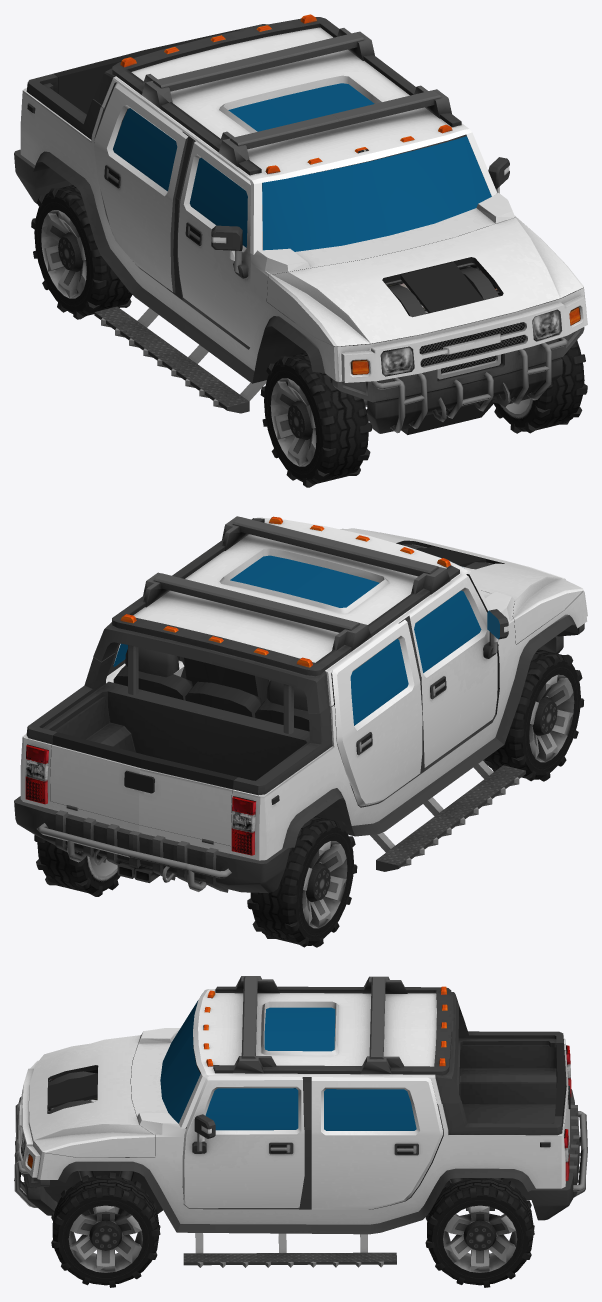
The model's file is Car13.fbx.
3 views of the same model, one above another, from view 1: azimuth 30°, elevation 25°; view 2: azimuth 150°, elevation 25°; view 3: azimuth 270°, elevation 25° (orthographic). The views are drawn at different scales.
Parts seen in each view (by area): view 1: Body, Roof, Hood, Front_Glass_, BumperF, Offroad_1_Door_RL, Door, Tire_3, Tire_2, Offroad_1_RightBumper_3, roofBar, roofBar_1 (+11 smaller); view 2: Body, Roof, Trunk, BumperB, Offroad_1_Door_RL, Door, Offroad_Dashboard, Tire_2, Hood, Tire_3, Offroad_1_RightBumper_3, roofBar (+10 smaller); view 3: Body, Roof, Offroad_1_Door_RL_1, Hood, Door__1_, Tire_1, Tire, Metal, Metal_1, Side_Glass__1, Offroad_1_Window_RL_Glass__1, Offroad_1_LeftBumper_3 (+9 smaller).
Boxes of the visible parts, x1,y1,x2,y2 form: Body: (20, 24, 587, 434); Roof: (93, 17, 497, 254); Hood: (267, 216, 583, 346); Front_Glass_: (262, 136, 491, 251); BumperF: (332, 327, 584, 433); Offroad_1_Door_RL: (94, 83, 188, 293); Door: (178, 141, 251, 347); Tire_3: (260, 352, 371, 487); Tire_2: (31, 185, 132, 319); Offroad_1_RightBumper_3: (94, 306, 266, 413); roofBar: (142, 28, 374, 109); roofBar_1: (218, 85, 451, 166); Body: (20, 532, 587, 860); Roof: (93, 517, 490, 733); Trunk: (50, 732, 237, 845); BumperB: (14, 796, 290, 892); Offroad_1_Door_RL: (332, 620, 422, 806); Door: (409, 574, 497, 767); Offroad_Dashboard: (113, 647, 357, 804); Tire_2: (247, 816, 357, 947); Hood: (340, 528, 583, 644); Tire_3: (483, 649, 584, 781); Offroad_1_RightBumper_3: (370, 760, 525, 871); roofBar: (143, 572, 371, 650); Body: (18, 1016, 569, 1234); Roof: (179, 986, 462, 1129); Offroad_1_Door_RL_1: (311, 1077, 442, 1209); Hood: (29, 1035, 155, 1157); Door__1_: (182, 1076, 304, 1208); Tire_1: (51, 1172, 160, 1287); Tire: (425, 1178, 534, 1287); Metal: (443, 1205, 517, 1272); Metal_1: (68, 1205, 142, 1272); Side_Glass__1: (205, 1088, 298, 1130); Offroad_1_Window_RL_Glass__1: (324, 1089, 416, 1130); Offroad_1_LeftBumper_3: (183, 1233, 396, 1267).
Bounding box in the file's own units: 367 × 296 × 700.
